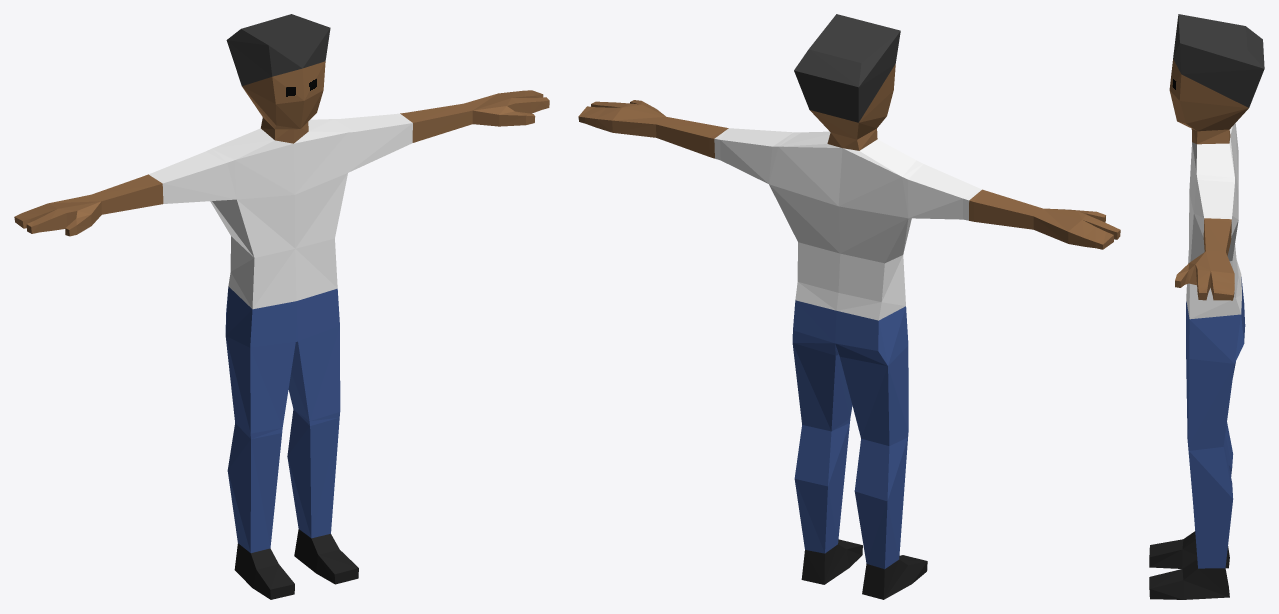
File: pipo.fbx
3 renders of one model, left to right at view 1: azimuth 30°, elevation 25°; view 2: azimuth 150°, elevation 25°; view 3: azimuth 270°, elevation 25°, orthographic.
Visible parts, largest first — view 1: pipo; view 2: pipo; view 3: pipo.
Boxes of the visible parts, box(x1,y1,x2,y2) form: pipo: box(14, 14, 549, 599); pipo: box(578, 14, 1120, 599); pipo: box(1149, 14, 1264, 599).
Size of the model in its own units: 19692 by 19642 by 3733.
6 materials, 6 textured.
